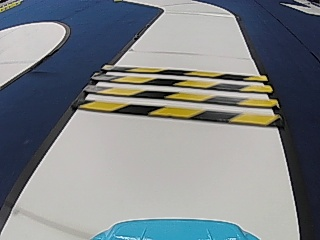bump: (75, 61, 279, 135)
